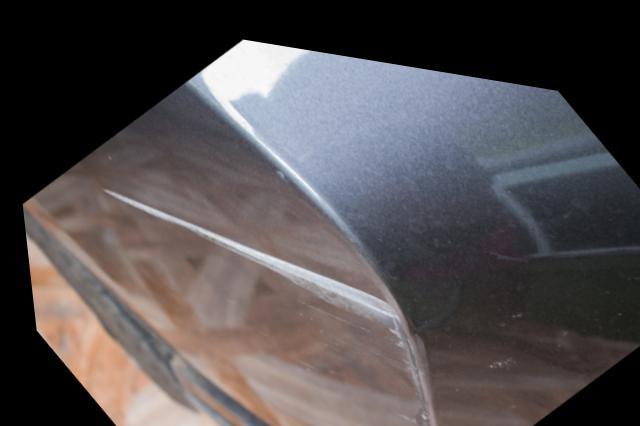scratch: (93, 182, 431, 426)
